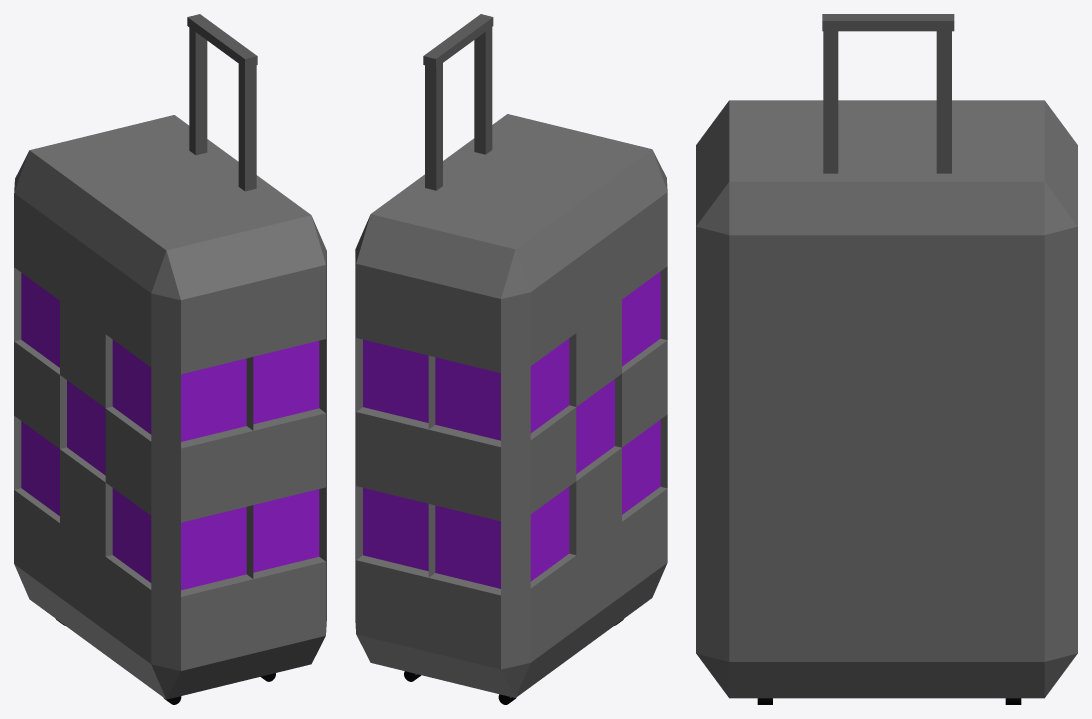
Rendered from luggage4.fbx.
3 renders of one model, left to right at view 1: azimuth 30°, elevation 25°; view 2: azimuth 150°, elevation 25°; view 3: azimuth 270°, elevation 25°, orthographic. The views are drawn at different scales.
Visible parts, largest first — view 1: Cube.002; view 2: Cube.002; view 3: Cube.002.
Boxes of the visible parts, bbox=[...] form: Cube.002: bbox=[14, 14, 326, 704]; Cube.002: bbox=[355, 14, 667, 704]; Cube.002: bbox=[696, 14, 1077, 704].
Bounding box in the file's own units: 353 × 1154 × 577.
